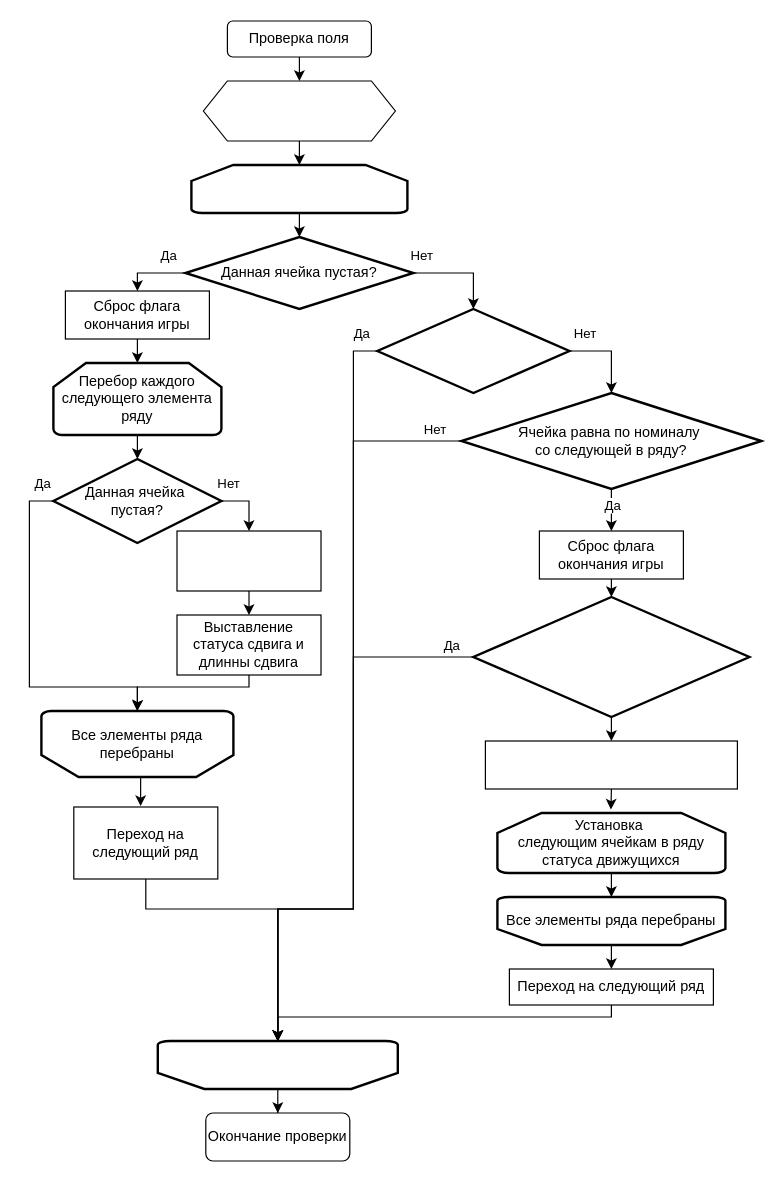
Image size: 784x1182. Some labels were removed from this diagram. Each missing label, with the centre of its shape:
"Все элементы поля перебраны" goes at point 277,1064.
"Данные две ячейки являются только что сложенными?" goes at point 611,656.
"Перебор каждого элемента поля" goes at point 299,188.
"Подъём флага не пустого ряда" goes at point 248,560.
"Сброс флага сдвига, подъём флага выхода" goes at point 298,110.
"Установка первой ячейке статуса складываемой" goes at point 610,764.
"Ячейка является крайней в ряду?" goes at point 473,350.
